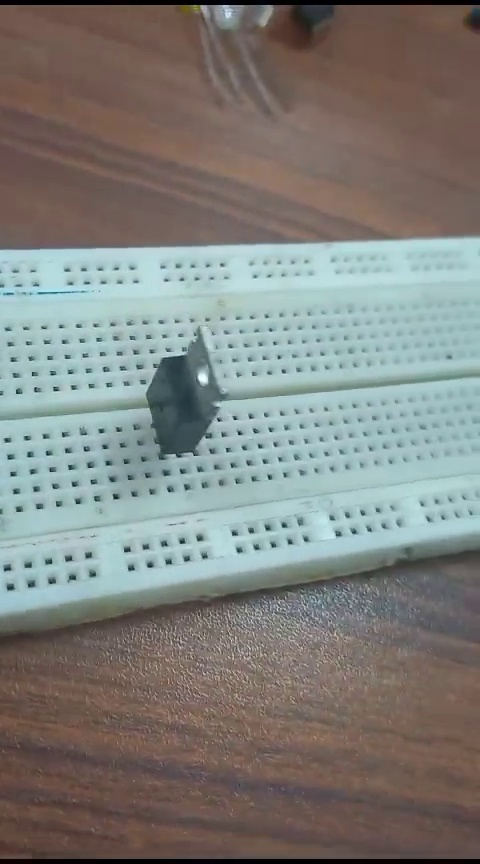voltage regulator: (132, 332, 230, 469)
